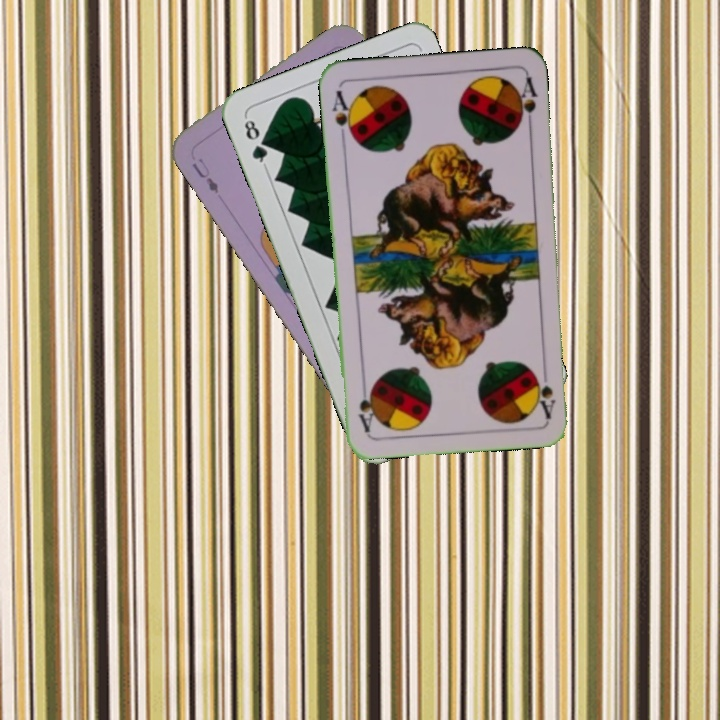EU: (188, 153, 221, 196)
G8: (240, 113, 270, 170)
SA: (327, 86, 357, 143), (532, 361, 558, 421)
